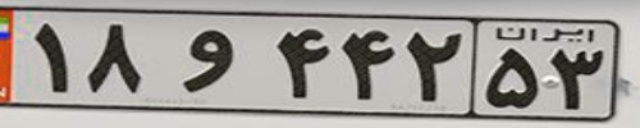1: (35, 22, 68, 93)
2: (404, 31, 463, 103)
3: (546, 47, 604, 110)
4: (273, 26, 330, 98), (339, 29, 395, 99)
5: (485, 46, 538, 107)
8: (87, 20, 139, 94)
vav: (176, 28, 231, 94)
